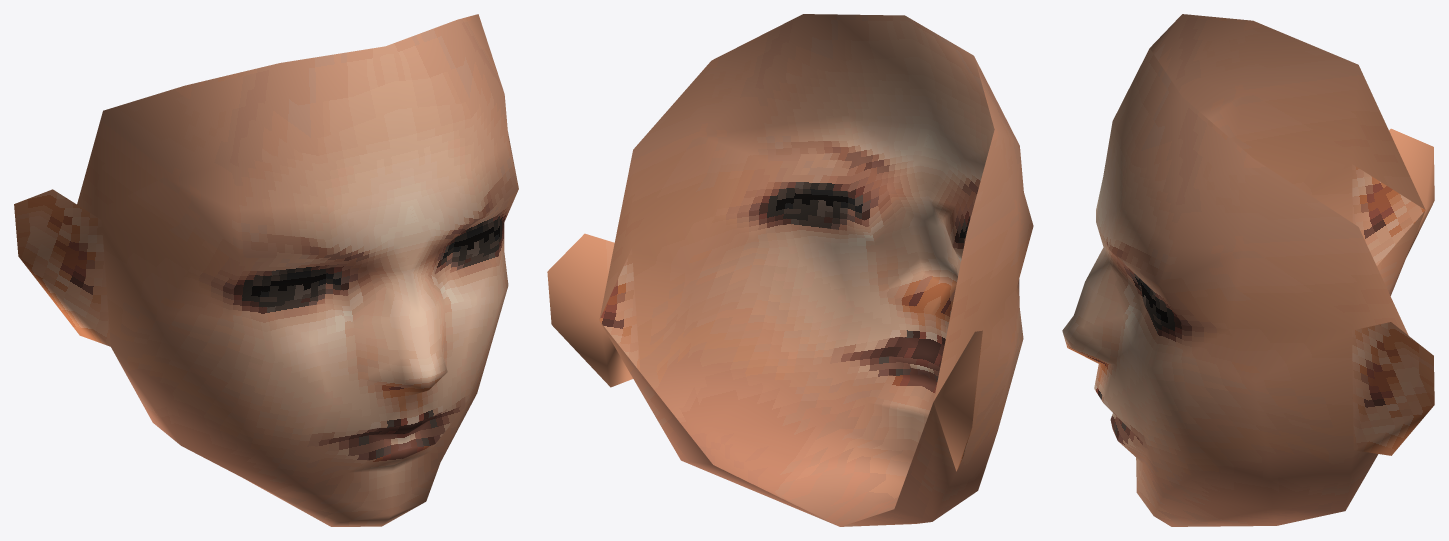
File: f_hair005.glb
3 views of the same model, side by side, from view 1: azimuth 30°, elevation 25°; view 2: azimuth 150°, elevation 25°; view 3: azimuth 270°, elevation 25° (orthographic). The views are drawn at different scales.
Bounding box in the file's own units: 19.4 × 20.07 × 14.63.
Materials: 1 (1 with a texture image).
